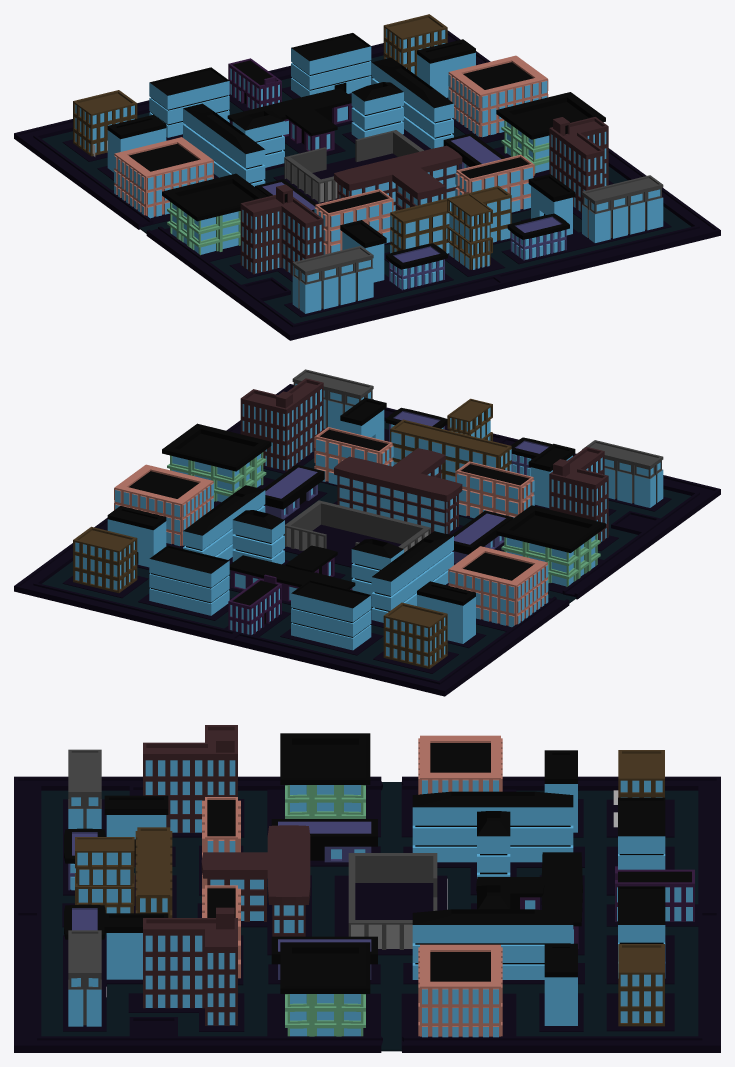
File: pacmanworld.glb
3 views of the same model, one above another, from view 1: azimuth 30°, elevation 25°; view 2: azimuth 150°, elevation 25°; view 3: azimuth 270°, elevation 25° (orthographic). The views are drawn at different scales.
Parts seen in each view (by area): view 1: Cube.003, Cube.008, Cube.011, Cube.009, Cube.012, Cube.006, Cube.002, Cube.022, Cube, Cube.017, Cube.004, Cube.021 (+12 smaller); view 2: Cube.003, Cube.009, Cube.008, Cube.011, Cube.006, Cube.002, Cube.004, Cube.022, Cube.019, Cube, Cube.017, Cube.012 (+12 smaller); view 3: Cube.002, Cube.003, Cube, Cube.022, Cube.011, Cube.009, Cube.008, Cube.006, Cube.004, Cube.012, Cube.014, Cube.005 (+12 smaller).
Boxes of the visible parts, bbox=[...] form: Cube.003: bbox=[14, 30, 720, 340]; Cube.008: bbox=[114, 55, 548, 218]; Cube.011: bbox=[240, 117, 608, 275]; Cube.009: bbox=[162, 92, 605, 255]; Cube.012: bbox=[292, 175, 663, 313]; Cube.006: bbox=[149, 33, 371, 137]; Cube.002: bbox=[42, 55, 691, 323]; Cube.022: bbox=[183, 57, 453, 186]; Cube: bbox=[62, 81, 671, 317]; Cube.017: bbox=[314, 154, 534, 254]; Cube.004: bbox=[73, 14, 447, 156]; Cube.021: bbox=[232, 82, 403, 167]; Cube.003: bbox=[14, 384, 720, 696]; Cube.009: bbox=[162, 423, 605, 586]; Cube.008: bbox=[114, 464, 548, 627]; Cube.011: bbox=[240, 378, 608, 543]; Cube.006: bbox=[149, 545, 371, 650]; Cube.002: bbox=[42, 421, 690, 680]; Cube.004: bbox=[73, 526, 447, 668]; Cube.022: bbox=[183, 485, 453, 622]; Cube.019: bbox=[334, 456, 462, 533]; Cube: bbox=[62, 428, 671, 673]; Cube.017: bbox=[314, 427, 534, 518]; Cube.012: bbox=[292, 369, 663, 507]; Cube.002: bbox=[41, 782, 698, 1051]; Cube.003: bbox=[14, 776, 720, 1052]; Cube: bbox=[62, 782, 698, 1048]; Cube.022: bbox=[412, 791, 573, 979]; Cube.011: bbox=[143, 725, 237, 1025]; Cube.009: bbox=[280, 733, 370, 1036]; Cube.008: bbox=[418, 735, 502, 1037]; Cube.006: bbox=[618, 797, 665, 978]; Cube.004: bbox=[618, 750, 664, 1026]; Cube.012: bbox=[68, 749, 101, 1026]; Cube.014: bbox=[104, 795, 168, 979]; Cube.005: bbox=[348, 853, 437, 949].
Bounding box in the file's own units: 12.21 × 2.01 × 13.55.
